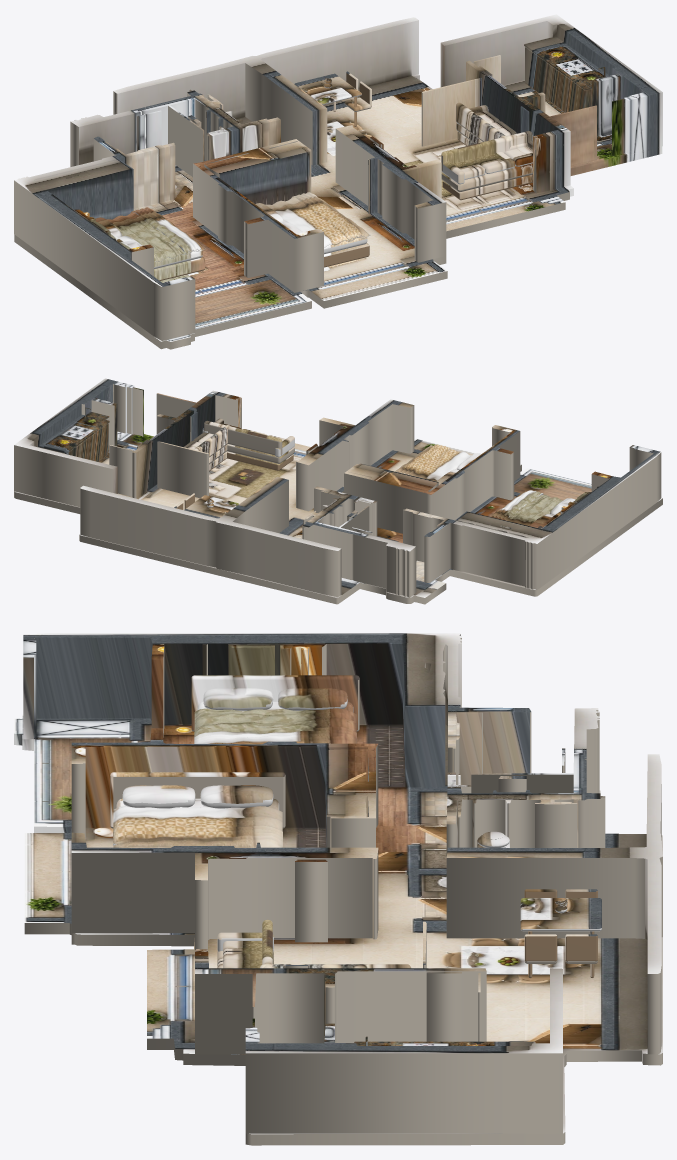
Rendered from p2-07-u02-2110-image-model.glb.
3 views of the same model, one above another, from view 1: azimuth 30°, elevation 25°; view 2: azimuth 150°, elevation 25°; view 3: azimuth 270°, elevation 25° (orthographic). The views are drawn at different scales.
Parts seen in each view (by area): view 1: Partition walls, Apartment floor, Kitchen cabinets, Draped bed linen.002, Draped bed linen, Stone worktop, Sofa back, Marble dining top, Draped bed linen.003, Upholstered sofa frame, Sofa back.001, Draped bed linen.001 (+4 smaller); view 2: Partition walls, Apartment floor, Sofa back, Draped bed linen.002, Draped bed linen, Kitchen cabinets, Stone worktop, Marble dining top, Draped bed linen.003, Draped bed linen.001, Upholstered sofa frame, Sofa back.001 (+1 smaller); view 3: Partition walls, Apartment floor, Draped bed linen.002, Draped bed linen, Upholstered headboard.001, Upholstered headboard, Marble dining top, Draped bed linen.003, Draped bed linen.001, Tailored pillow.002, Tailored pillow.003, Tailored pillow (+4 smaller).
Boxes of the visible parts, bbox=[...] form: Partition walls: bbox=[14, 14, 662, 340]; Apartment floor: bbox=[14, 74, 662, 349]; Kitchen cabinets: bbox=[525, 47, 591, 112]; Draped bed linen.002: bbox=[265, 193, 370, 247]; Draped bed linen: bbox=[106, 209, 206, 261]; Stone worktop: bbox=[524, 37, 609, 90]; Sofa back: bbox=[441, 131, 532, 171]; Marble dining top: bbox=[294, 73, 361, 104]; Draped bed linen.003: bbox=[291, 192, 364, 240]; Upholstered sofa frame: bbox=[441, 163, 532, 191]; Sofa back.001: bbox=[456, 102, 510, 151]; Draped bed linen.001: bbox=[131, 207, 200, 253]; Partition walls: bbox=[14, 378, 661, 597]; Apartment floor: bbox=[14, 431, 662, 604]; Sofa back: bbox=[204, 420, 282, 455]; Draped bed linen.002: bbox=[395, 445, 471, 481]; Draped bed linen: bbox=[490, 490, 562, 525]; Kitchen cabinets: bbox=[66, 423, 108, 461]; Stone worktop: bbox=[38, 414, 109, 453]; Marble dining top: bbox=[184, 495, 238, 518]; Draped bed linen.003: bbox=[397, 444, 450, 474]; Draped bed linen.001: bbox=[491, 490, 543, 519]; Upholstered sofa frame: bbox=[227, 444, 294, 463]; Sofa back.001: bbox=[194, 425, 229, 457]; Partition walls: bbox=[23, 633, 662, 1133]; Apartment floor: bbox=[14, 714, 662, 1145]; Draped bed linen.002: bbox=[113, 806, 282, 847]; Draped bed linen: bbox=[194, 708, 356, 744]; Upholstered headboard.001: bbox=[110, 772, 285, 828]; Upholstered headboard: bbox=[191, 675, 359, 731]; Marble dining top: bbox=[520, 898, 601, 931]; Draped bed linen.003: bbox=[113, 825, 282, 846]; Draped bed linen.001: bbox=[194, 726, 356, 743]; Tailored pillow.002: bbox=[122, 785, 195, 808]; Tailored pillow.003: bbox=[200, 785, 273, 808]; Tailored pillow: bbox=[203, 688, 273, 710].
Size of the model in its own units: 12.78 by 1.3 by 8.34.
14 materials, 3 textured.
